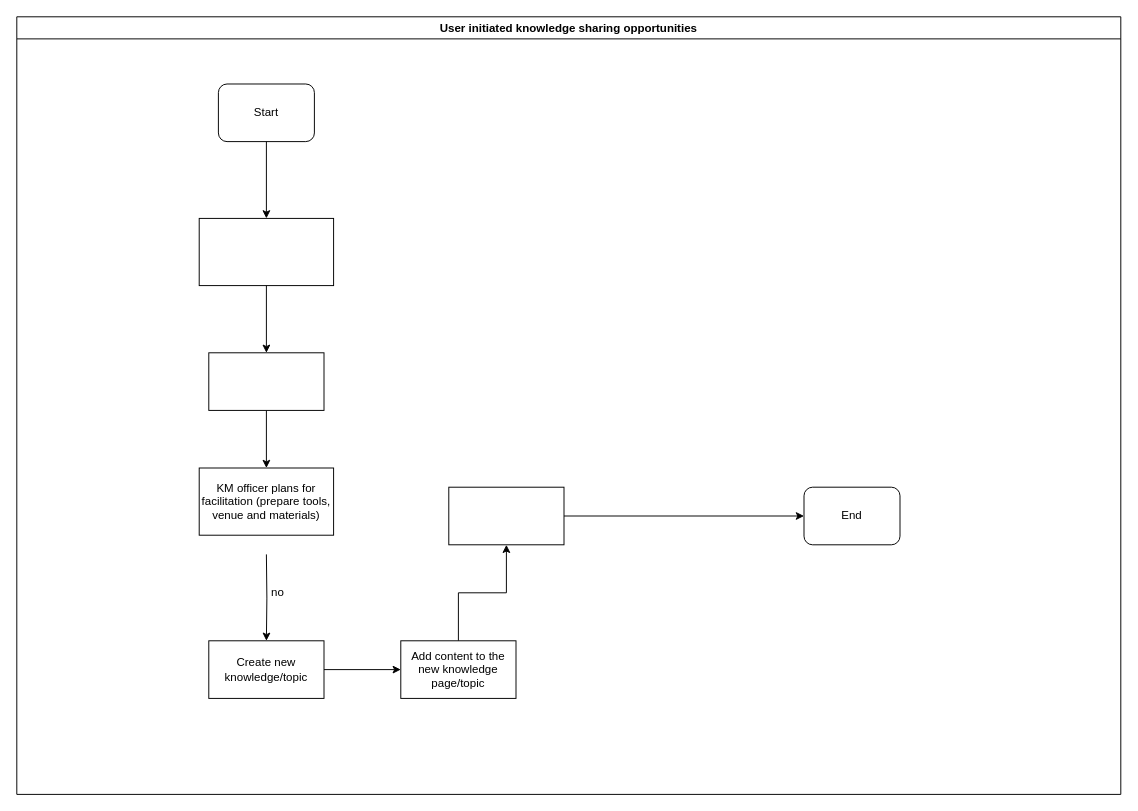
Some shapes in this 1138 by 811 pixel diagram are drawn without their labels. Each missing label, with the centre of its shape:
KM evaluates the activity: pixel 266 381
Save: pixel 506 515
User/s request for facilitation of the activity to KM Officer: pixel 266 251
